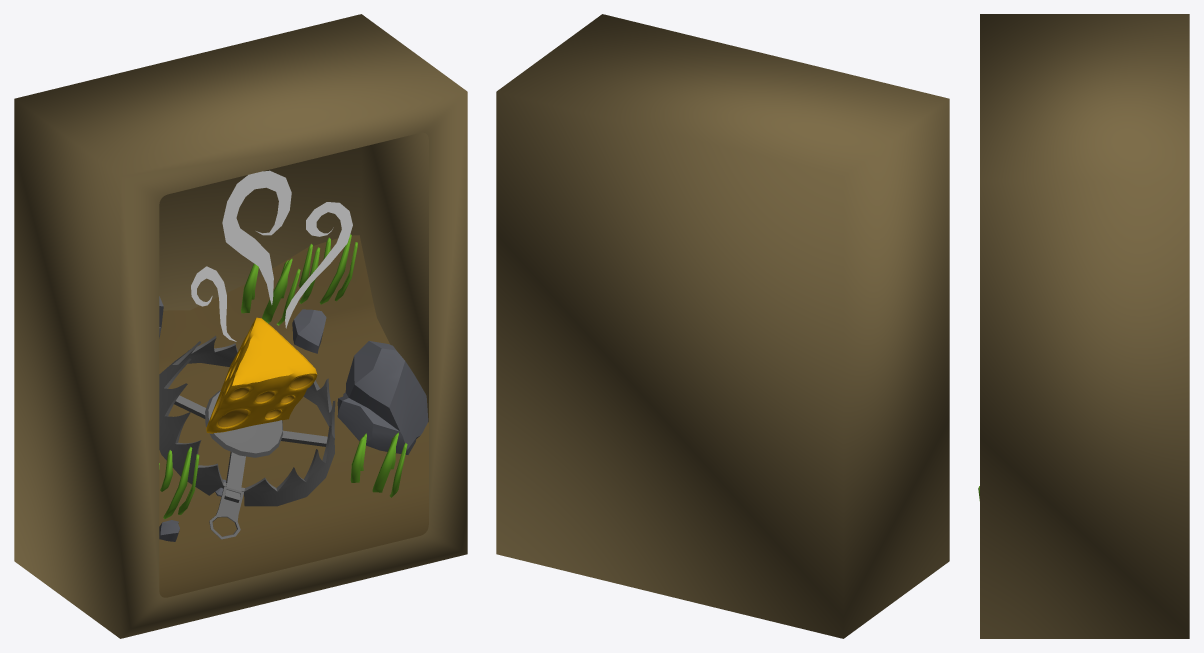
File: 7_StinkTrap.fbx
The picture shows the model from 3 angles, left to right: view 1: azimuth 30°, elevation 25°; view 2: azimuth 150°, elevation 25°; view 3: azimuth 270°, elevation 25°; orthographic projection.
Parts seen in each view (by area): view 1: 7_StinkTrap_bg, 7_StinkTrap; view 2: 7_StinkTrap_bg; view 3: 7_StinkTrap_bg.
Boxes of the visible parts, x1,y1,x2,y2 form: 7_StinkTrap_bg: (14,14,467,638); 7_StinkTrap: (159,170,428,597); 7_StinkTrap_bg: (496,14,949,638); 7_StinkTrap_bg: (980,14,1189,638).
Bounding box in the file's own units: 276 × 351 × 147.
